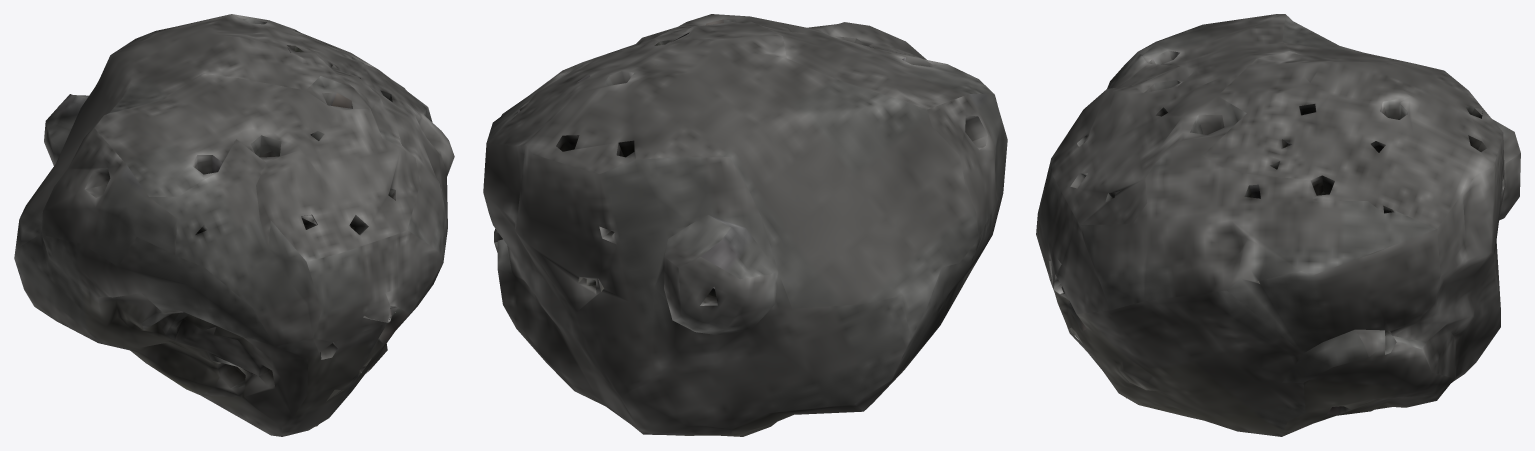
File: rock_1418141231_lod0m.glb
The picture shows the model from 3 angles, left to right: view 1: azimuth 30°, elevation 25°; view 2: azimuth 150°, elevation 25°; view 3: azimuth 270°, elevation 25°; orthographic projection. The views are drawn at different scales.
Size of the model in its own units: 2.41 by 1.95 by 2.38.
Materials: 1 (1 with a texture image).
